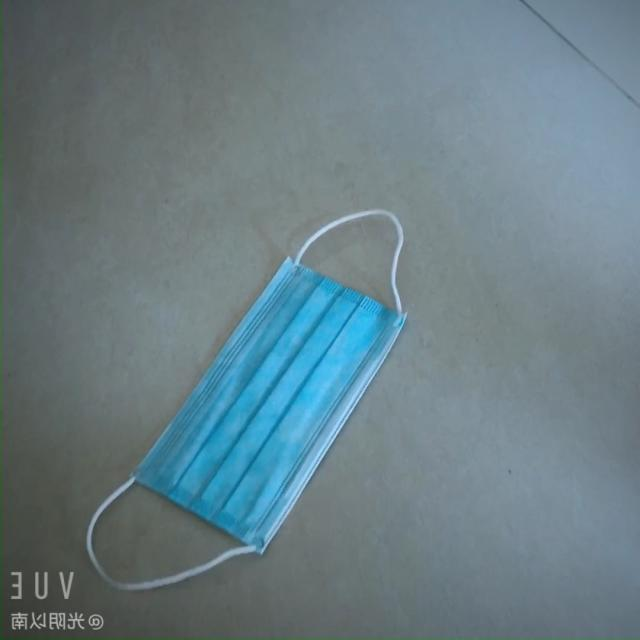face mask: (142, 220, 402, 562)
